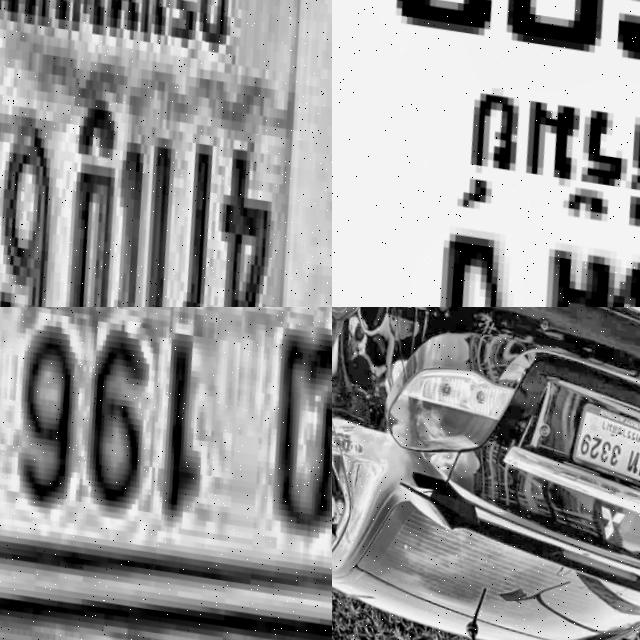license-plate: (0, 307, 332, 640), (0, 0, 332, 307), (332, 0, 640, 307), (552, 389, 640, 502)
